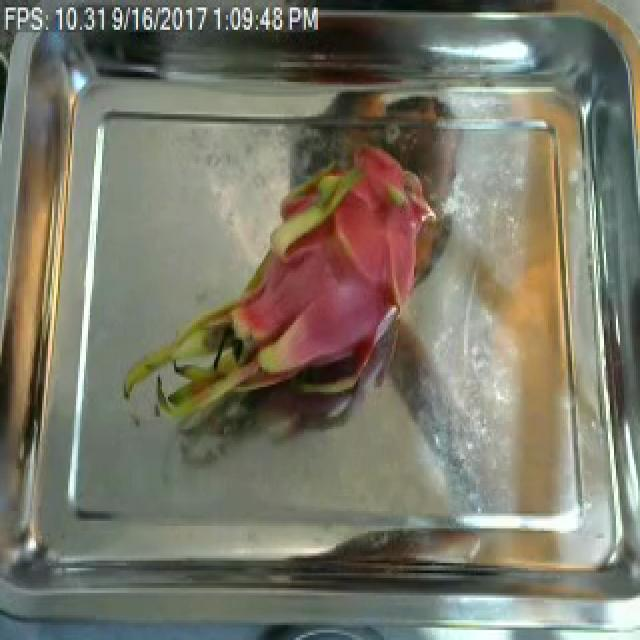fruit: (112, 121, 430, 459)
